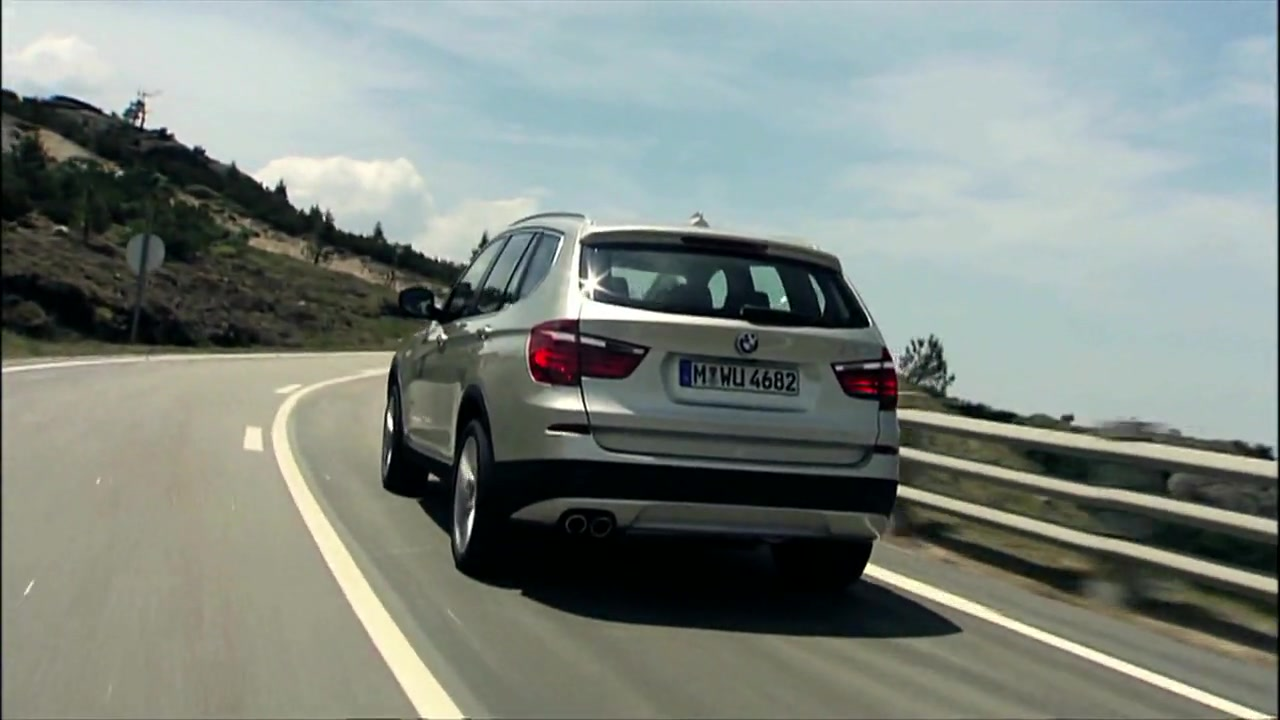car: (381, 204, 908, 594)
